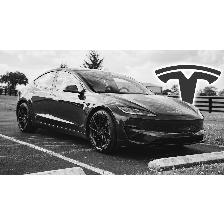EV: (18, 67, 208, 154)
